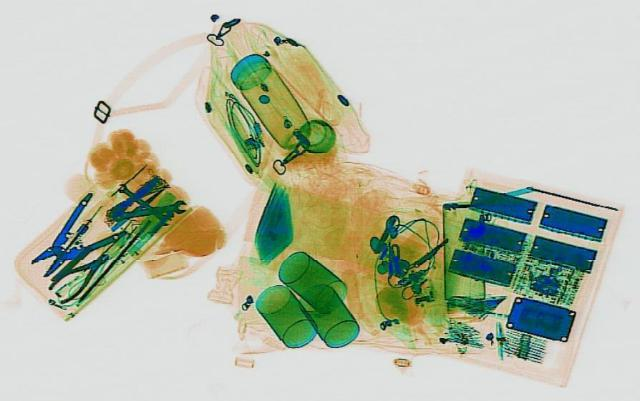Pliers: (0, 191, 148, 282), (34, 246, 120, 302)
Wrench: (110, 182, 174, 225), (101, 197, 189, 222)
